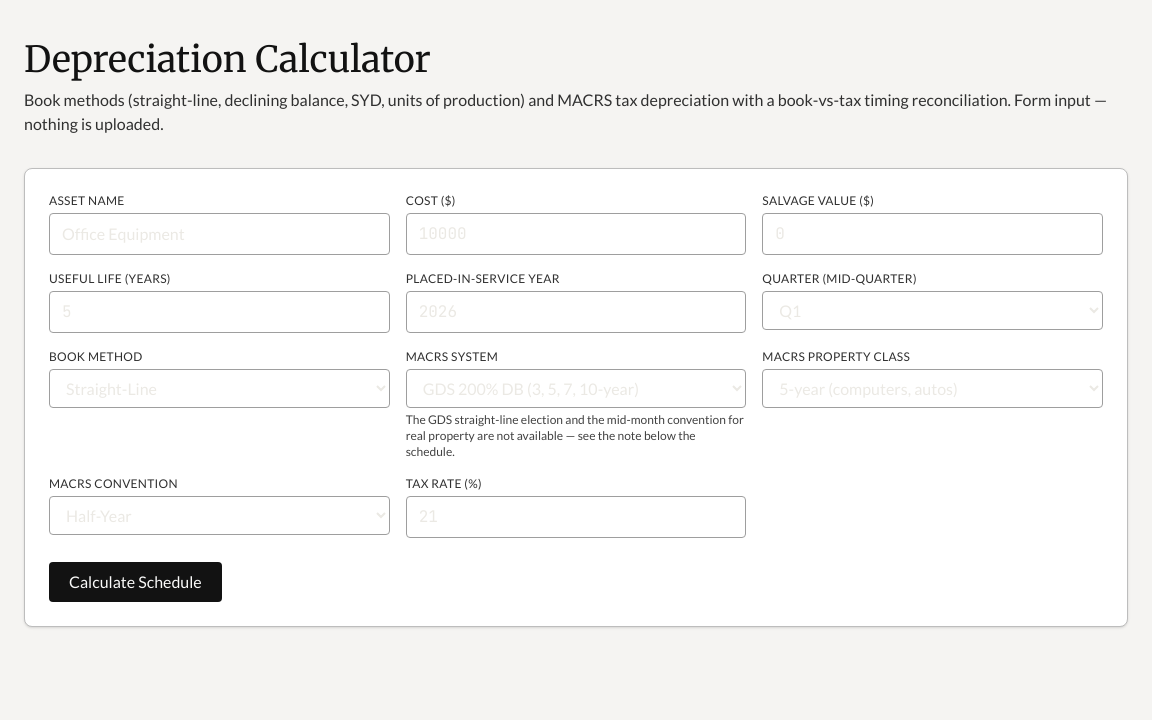
Test: DepreciationPage › shows MACRS property class + convention only when a MACRS system is selected
Expected: the text "MACRS Property Class" is shown, x1=762 y1=349 x2=910 y2=364
Select "No MACRS (book only)" in the dropdown showing "GDS 200% DB" at (576, 388), box x1=406 y1=369 x2=746 y2=408
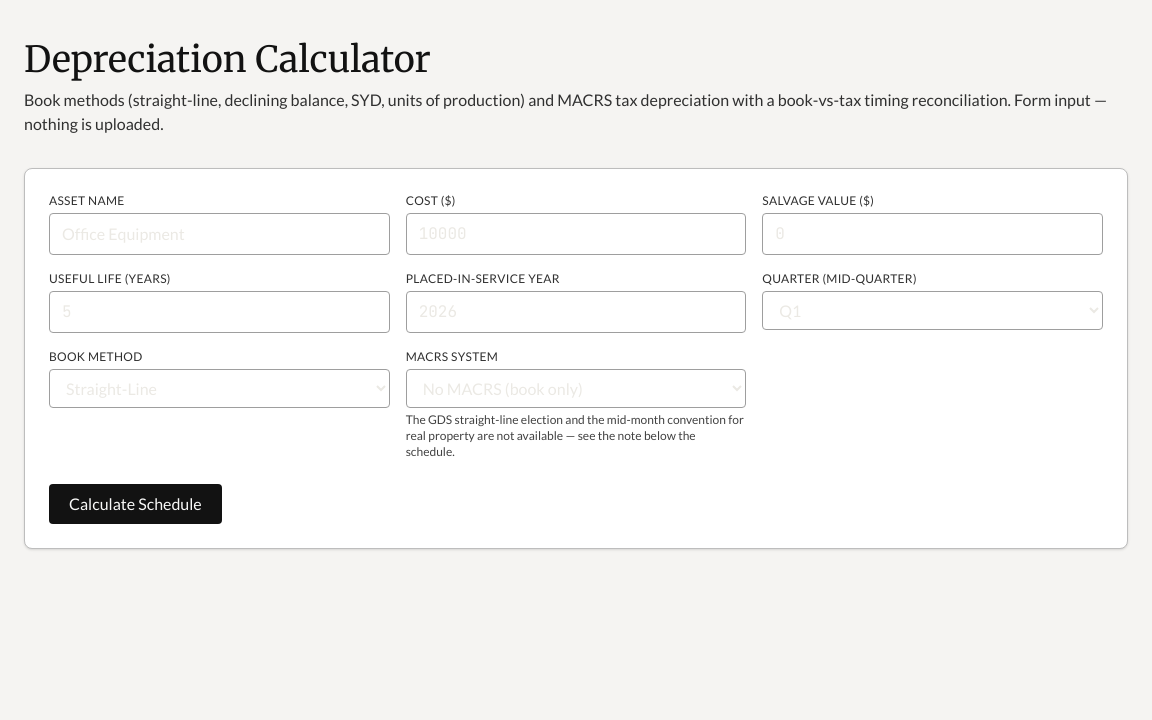
Result: the text "MACRS Property Class" is gone
Result: the text "MACRS Convention" is gone
